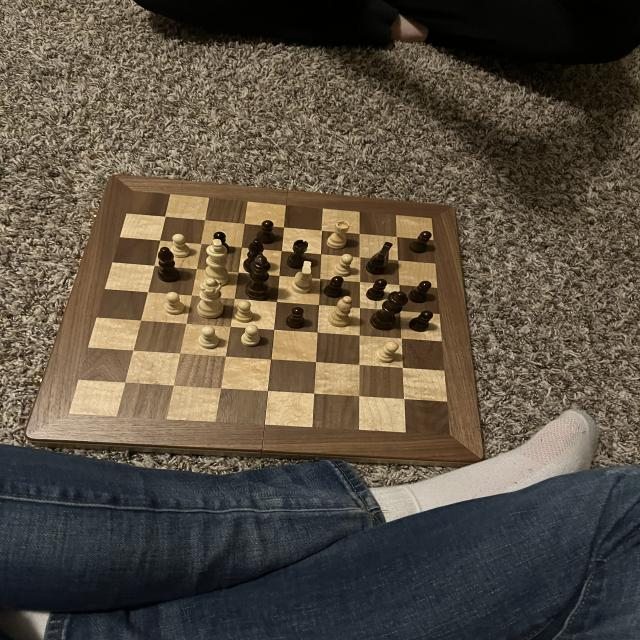bishop: (238, 236, 275, 276), (153, 244, 186, 285)
black-bishop: (243, 254, 274, 300)
black-king: (361, 240, 400, 278)
black-knight: (282, 303, 310, 333), (403, 278, 434, 304), (250, 216, 278, 243), (407, 308, 436, 334), (207, 227, 233, 255), (410, 227, 434, 257), (365, 277, 392, 302), (322, 274, 349, 299)
black-pawn: (367, 287, 411, 333)
black-queen: (286, 238, 313, 270)
black-rook: (325, 295, 355, 330)
white-bishop: (202, 236, 232, 289)
white-king: (288, 258, 317, 296)
white-knight: (235, 322, 265, 350), (371, 338, 400, 364), (196, 325, 223, 352), (330, 252, 355, 280), (161, 292, 188, 317), (168, 232, 193, 259), (234, 299, 258, 324)
white-pawn: (191, 276, 229, 320)
white-queen: (325, 218, 352, 250)
